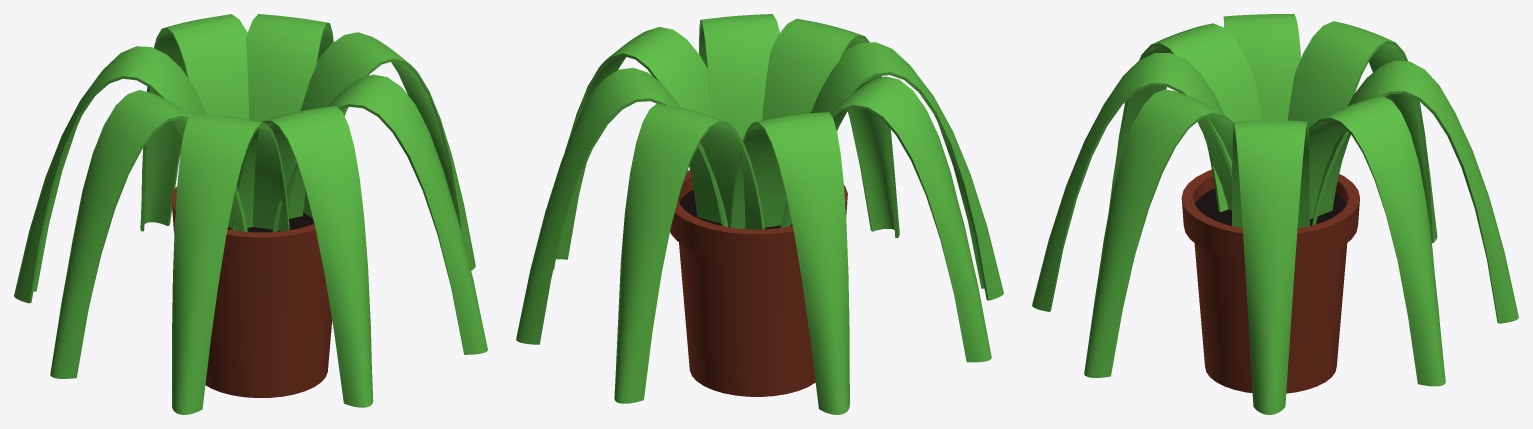
The model's file is kwiatek_22.fbx.
3 renders of one model, left to right at view 1: azimuth 30°, elevation 25°; view 2: azimuth 150°, elevation 25°; view 3: azimuth 270°, elevation 25°, orthographic. The views are drawn at different scales.
Parts seen in each view (by area): view 1: Cylinder; view 2: Cylinder; view 3: Cylinder.
Part boxes in pixels (<box>): Cylinder: <box>14,14,487,414</box>; Cylinder: <box>516,14,1003,414</box>; Cylinder: <box>1032,14,1518,414</box>.
Bounding box in the file's own units: 635 × 418 × 625.
